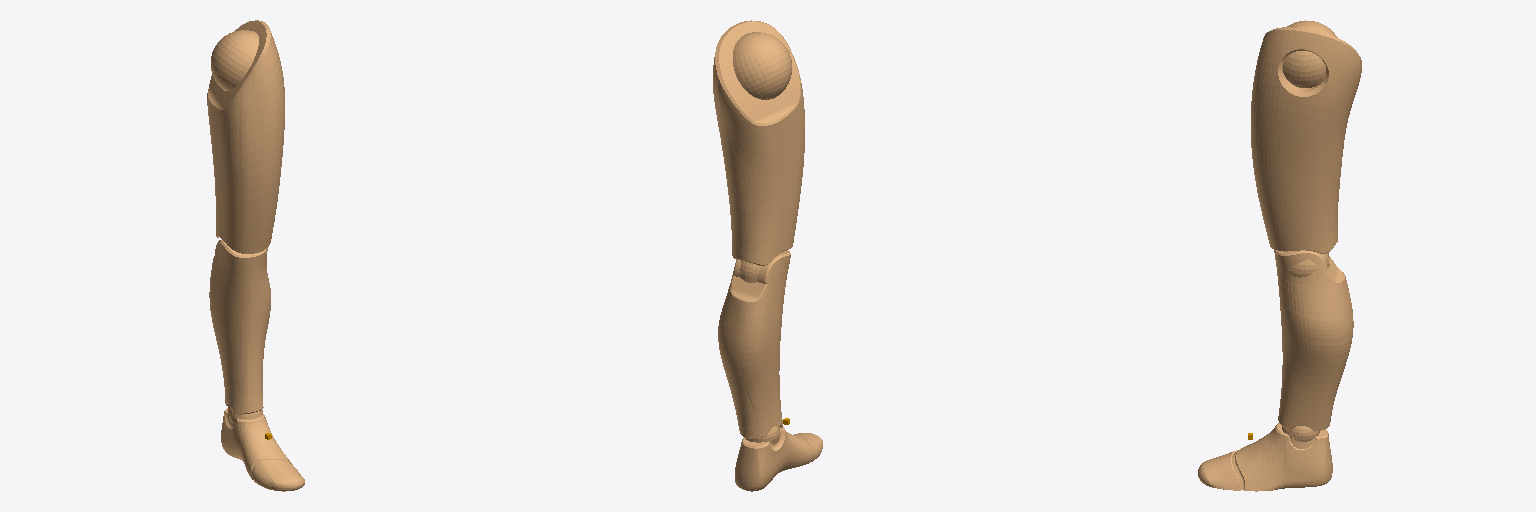
URDF robot description (left_leg):
<?xml version="1.0" ?>
<robot name="left_leg">

  <material name="skin">
    <color rgba="0.9 0.72 0.53 1.000"/>
  </material>

  <link name="base_link">
    <inertial>
      <origin xyz="0.0 0.0 0.0" rpy="0 0 0"/>
      <mass value="0.0"/>
      <inertia ixx="0.0" iyy="0.0" izz="0.0" ixy="0.0" iyz="0.0" ixz="0.0"/>
    </inertial>
  </link>

  <joint name="base_fixed" type="fixed">
    <origin rpy="0 0 0.0" xyz="0 0 0.0"/>
    <parent link="base_link"/>
    <child link="base_link_0"/>
  </joint>

  <link name="base_link_0">
    <inertial>
      <origin xyz="0.0 0.0 0.0" rpy="0 0 0"/>
      <mass value="0.0"/>
      <inertia ixx="0.0" iyy="0.0" izz="0.0" ixy="0.0" iyz="0.0" ixz="0.0"/>
    </inertial>
  </link>

  <link name="base_link_1">
    <inertial>
      <origin xyz="0.0 0.0 0.0" rpy="0 0 0"/>
      <mass value="0.0"/>
      <inertia ixx="0.0" iyy="0.0" izz="0.0" ixy="0.0" iyz="0.0" ixz="0.0"/>
    </inertial>
  </link>

  <link name="base_link_2">
    <inertial>
      <origin xyz="0.0 0.0 0.0" rpy="0 0 0"/>
      <mass value="0.0"/>
      <inertia ixx="0.0" iyy="0.0" izz="0.0" ixy="0.0" iyz="0.0" ixz="0.0"/>
    </inertial>
  </link>

    <link name="foot_x">
    <inertial>
      <origin xyz="0.0 0.0 0.0" rpy="0 0 0"/>
      <mass value="0.0"/>
      <inertia ixx="0.0" iyy="0.0" izz="0.0" ixy="0.0" iyz="0.0" ixz="0.0"/>
    </inertial>
  </link>

  <link name="upper_leg">
    <inertial>
      <origin xyz="0.00277 -0.00352 -0.098" rpy="0 0 0"/>
      <mass value="1.0"/>
      <inertia ixx="0.00691" iyy="0.00674" izz="0.00097" ixy="-6.65745e-06" iyz="-7.0718e-05" ixz="0.00015"/>
    </inertial>
    <visual>
      <origin xyz="0 0 0" rpy="0 0 0"/>
      <geometry>
        <mesh filename="meshes/left_upper_leg.stl" scale="1.0 1.0 1.0"/>
      </geometry>
      <material name="skin"/>
    </visual>
    <collision>
      <origin xyz="0 0 0" rpy="0 0 0"/>
      <geometry>
        <mesh filename="meshes/left_upper_leg.stl" scale="1.0 1.0 1.0"/>
      </geometry>
    </collision>
  </link>

  <link name="lower_leg">
    <inertial>
      <origin xyz="0.01457 9.28389e-05 -0.19143" rpy="0 0 0"/>
      <mass value="1.0"/>
      <inertia ixx="0.01712" iyy="0.01699" izz="0.00072" ixy="-5.34657e-05" iyz="-0.00071" ixz="0.00031"/>
    </inertial>
    <visual>
      <origin xyz="0.0 0.0 0.0" rpy="0 0 0"/>
      <geometry>
        <mesh filename="meshes/left_lower_leg_without_foot.stl" scale="1.0 1.0 1.0"/>
      </geometry>
      <material name="skin"/>
    </visual>
    <collision>
      <origin xyz="0.0 0.0 0.0" rpy="0 0 0"/>
      <geometry>
        <mesh filename="meshes/left_lower_leg_without_foot.stl" scale="1.0 1.0 1.0"/>
      </geometry>
    </collision>
  </link>

  <link name="foot">
    <inertial>
      <origin xyz="0.16051 -0.012319 0.075256" rpy="0 0 0"/>
      <mass value="1.0"/>
      <inertia ixx="0.01712" iyy="0.01699" izz="0.00072" ixy="-5.34657e-05" iyz="-0.00071" ixz="0.00031"/>
    </inertial>
    <visual>
      <origin xyz="0.0 0.0 0.0" rpy="0 0 0"/>
      <geometry>
        <mesh filename="meshes/left_foot.stl" scale="1.0 1.0 1.0"/>
      </geometry>
      <material name="skin"/>
    </visual>
    <collision>
      <origin xyz="0.0 0.0 0.0" rpy="0 0 0"/>
      <geometry>
        <mesh filename="meshes/left_foot.stl" scale="1.0 1.0 1.0"/>
      </geometry>
    </collision>
  </link>

  <joint name="base_x" type="continuous">
    <origin xyz="0.0 0.0 0.0" rpy="0 0 0"/>
    <parent link="base_link_0"/>
    <child link="base_link_1"/>
    <axis xyz="1.0 0.0 0.0"/>
    <!-- <limit effort="100" lower="-1.57" upper="1.57" velocity="5.0"/> -->
  </joint>

  <joint name="base_y" type="continuous">
    <origin xyz="0.0 0.0 0.0" rpy="0 0 0"/>
    <parent link="base_link_1"/>
    <child link="base_link_2"/>
    <axis xyz="0.0 1.0 0.0"/>
    <!-- <limit effort="100" lower="-1.57" upper="0" velocity="5.0"/> -->
  </joint>

  <joint name="base_z" type="continuous">
    <origin xyz="0.0 0.0 0.0" rpy="0 0 0"/>
    <parent link="base_link_2"/>
    <child link="upper_leg"/>
    <axis xyz="0.0 0.0 1.0"/>
    <!-- <limit effort="100" lower="0.0" upper="1.57" velocity="5.0"/> -->
  </joint>

  <joint name="upper_to_lower" type="continuous">
    <origin xyz="0.0 0.0 -0.430301" rpy="0 0 0"/>
    <parent link="upper_leg"/>
    <child link="lower_leg"/>
    <axis xyz="1.0 0.0 0.0"/>
    <!-- <limit effort="100" lower="-2.0944" upper="0.0" velocity="5.0"/> -->
  </joint>


  <joint name="lower_to_foot_x" type="continuous">
    <origin xyz="0.0 0.0 -0.35039" rpy="0 0 0"/>
    <parent link="lower_leg"/>
    <child link="foot_x"/>
    <axis xyz="1.0 0.0 0.0"/>
    <!-- <limit effort="100" lower="-2.0944" upper="0.0" velocity="5.0"/> -->
  </joint>


  <joint name="lower_to_foot" type="continuous">
    <origin xyz="0.0 0.0 0.0" rpy="0 0 0"/>
    <parent link="foot_x"/>
    <child link="foot"/>
    <axis xyz="0.0 1.0 0.0"/>
    <!-- <limit effort="100" lower="-2.0944" upper="0.0" velocity="5.0"/> -->
  </joint>



  <joint name="grasp_fixed_joint" type="fixed">
    <parent link="foot"/>
    <child link="ee_link"/>
    <origin rpy="0.0 0.0 0.0" xyz="0.0 -0.1 -0.02"/>
  </joint>

  <link name="ee_link">
    <inertial>
      <origin xyz="0.0 0.0 0.0" rpy="0 0 0"/>
      <mass value="0.0"/>
      <inertia ixx="0.0" iyy="0.0" izz="0.0" ixy="0.0" iyz="0.0" ixz="0.0"/>
    </inertial>
    <visual>
      <geometry>
        <box size="0.01 0.01 0.01"/>
      </geometry>
      <origin rpy="0 0 0" xyz="0.0 0 0"/>
    </visual>
  </link>

</robot>

--- What the picture shows (computed from the rendered views, not written in the file) ---
The picture shows the robot from 3 angles, left to right: view 1: azimuth 30°, elevation 25°; view 2: azimuth 150°, elevation 25°; view 3: azimuth 270°, elevation 25°; orthographic projection.
Model left_leg with 9 links and 8 joints (6 continuous, 2 fixed), rooted at base_link, posed every joint at zero.
Visible links, largest first — view 1: upper_leg, lower_leg, foot; view 2: upper_leg, lower_leg, foot; view 3: upper_leg, lower_leg, foot.
Boxes of the visible links, x1,y1,x2,y2 form: upper_leg: (207,20,284,253); lower_leg: (209,240,270,417); foot: (221,408,304,491); upper_leg: (713,20,804,279); lower_leg: (718,250,790,438); foot: (735,427,822,491); upper_leg: (1251,20,1361,277); lower_leg: (1274,250,1353,434); foot: (1198,423,1332,491).
Size in the robot's own frame: 0.1495 by 0.3127 by 0.9649 metres.
Meshes: 3 distinct files referenced, 3 mesh visuals loaded (3 binary STL).